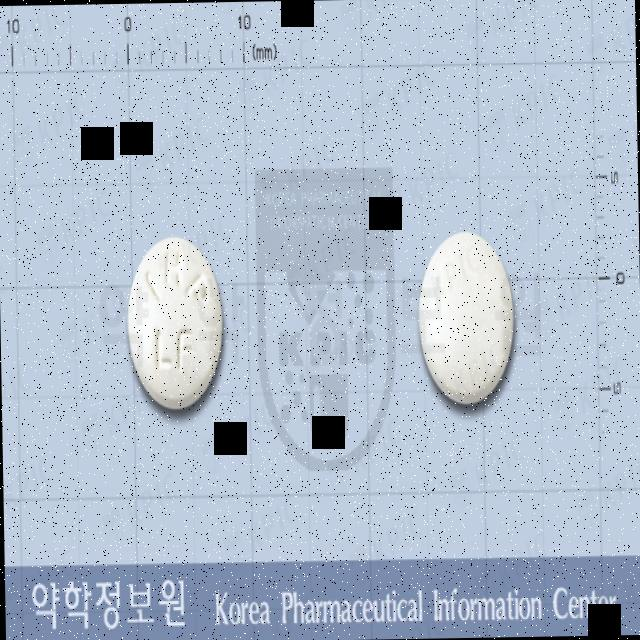Lesacin: (124, 231, 226, 412), (418, 226, 517, 408)
